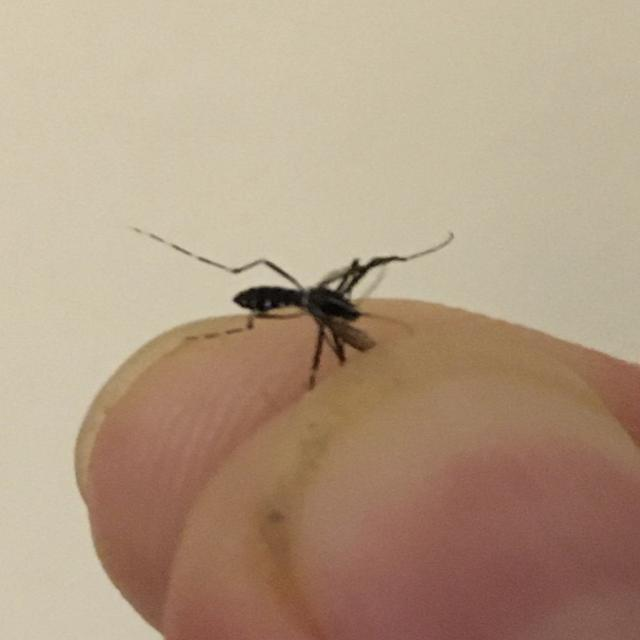albopictus: (131, 208, 452, 395)
